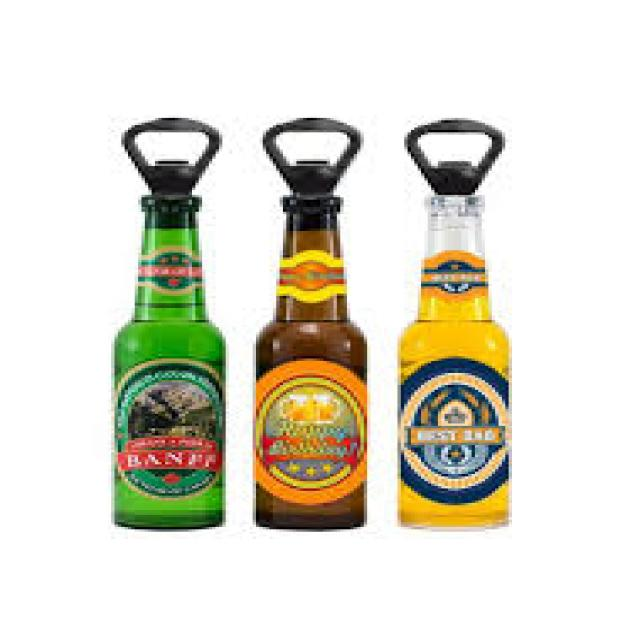glass: (250, 202, 361, 525), (398, 212, 509, 527), (108, 210, 219, 525)
metal: (276, 193, 340, 210), (425, 190, 479, 207), (135, 195, 199, 204)
plastic: (404, 113, 499, 190), (260, 113, 361, 185), (121, 118, 219, 188)
